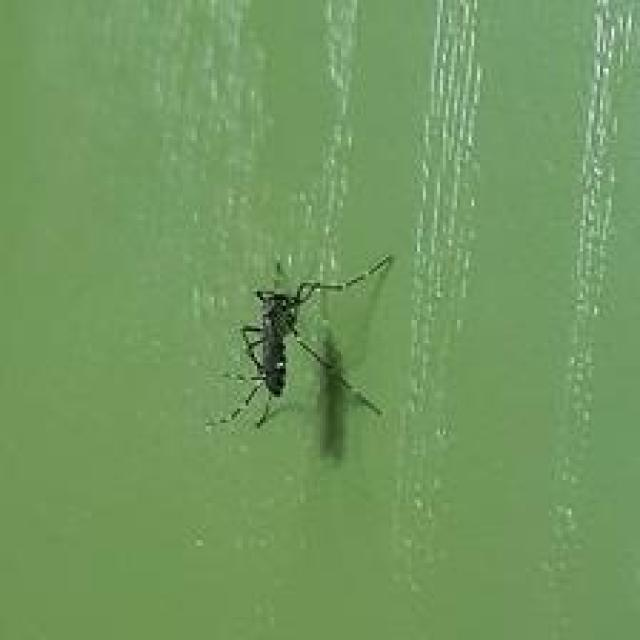Aedes albopictus: (207, 253, 393, 456)
